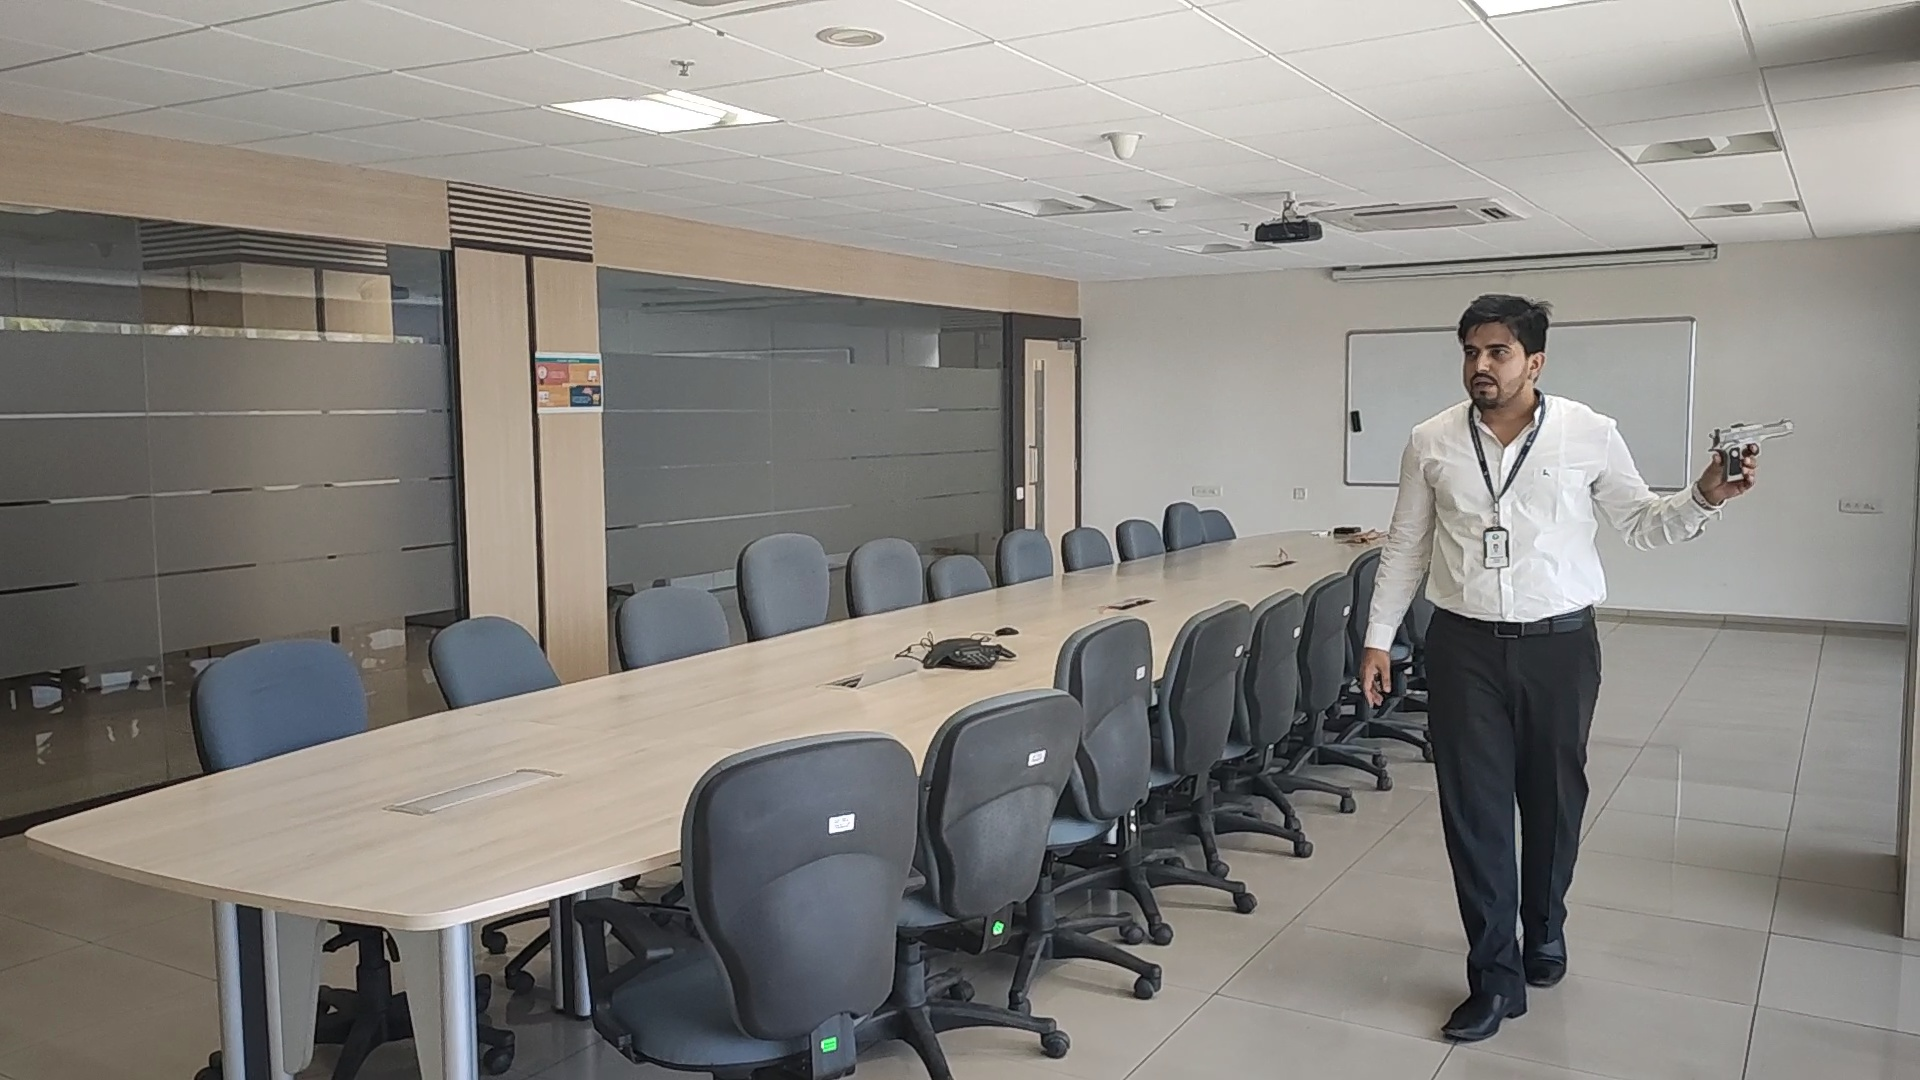gun: (1706, 418, 1795, 456)
